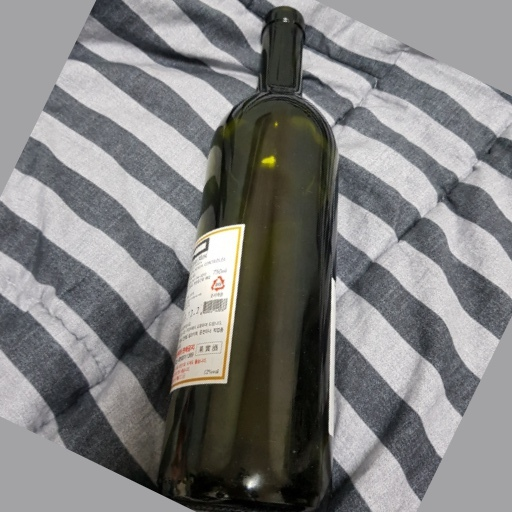Glass_2: (170, 5, 343, 512)
